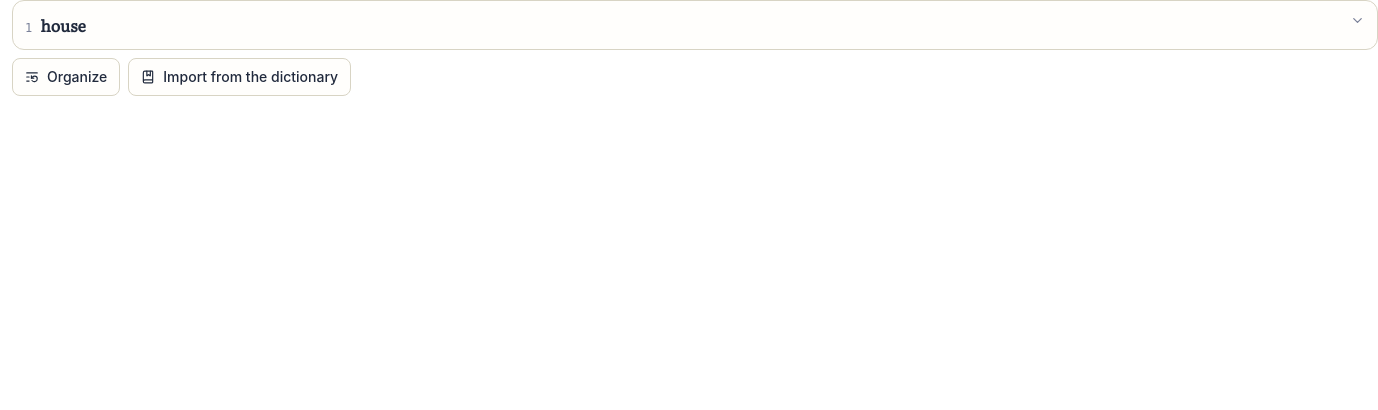
Test case: importing meanings from the attached dictionary entry › previews each sense with the labels that cross and the ones that do not
Click the button "Import from the dictionary" at (240, 77), box [128,58,351,96]
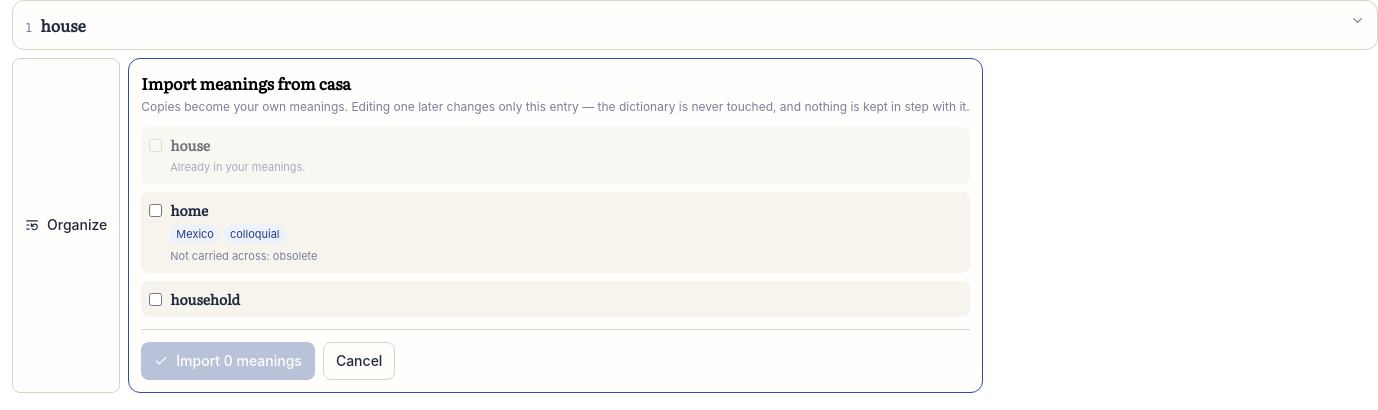
expect the text "Mexico" is shown: met, box [170,224,220,244]
expect the text "colloquial" is shown: met, box [224,224,286,244]
expect the text "Not carried across: obsolete" is shown: met, box [170,249,318,263]
